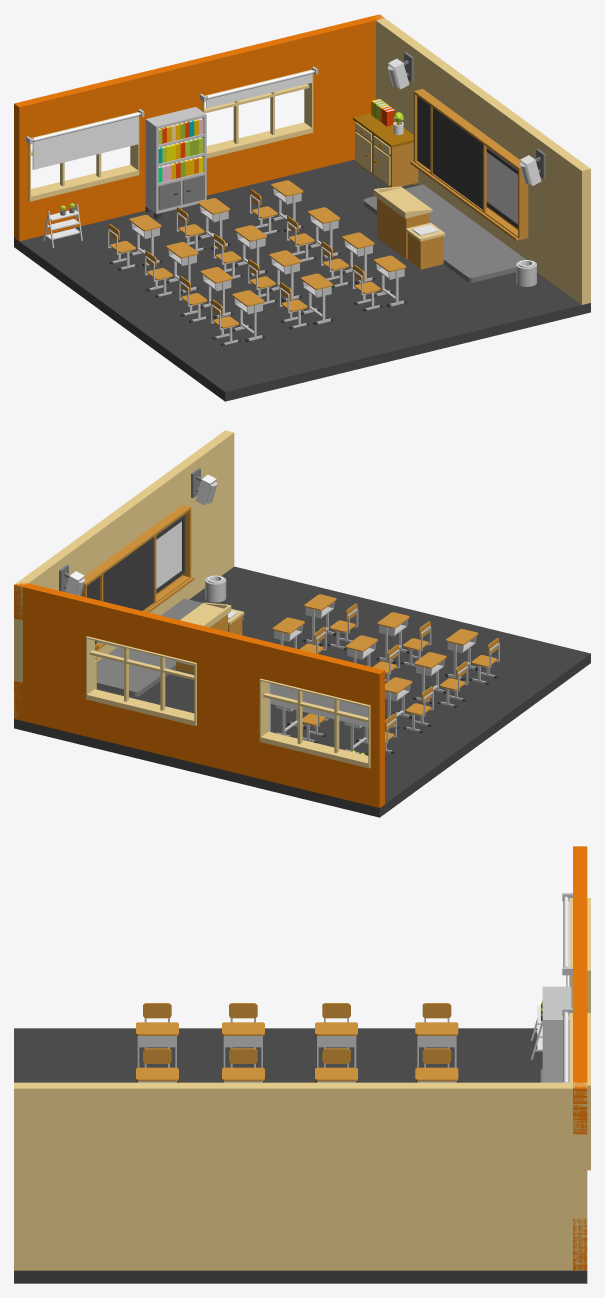
Rendered from classroom.gltf.
3 renders of one model, top to bottom at view 1: azimuth 30°, elevation 25°; view 2: azimuth 150°, elevation 25°; view 3: azimuth 270°, elevation 25°, orthographic. The views are drawn at different scales.
Parts seen in each view (by area): view 1: box_437, box_408, box_407, box_296, box_406, box_400, box_255, box_17, box_363, box_14, box_409, box_369 (+17 smaller); view 2: box_437, box_408, box_296, box_407, box_255, box_406, box_17, box_400, box_363, box_409, box_291, box_369 (+6 smaller); view 3: box_408, box_437, box_407, box_274, box_273, box_296, box_406, box_255, box_367, box_366.
Boxes of the visible parts, x1,y1,x2,y2 form: box_437: (14, 159, 590, 401); box_408: (373, 14, 590, 304); box_407: (14, 14, 384, 140); box_296: (14, 121, 354, 241); box_406: (308, 17, 375, 169); box_400: (367, 184, 526, 281); box_255: (133, 59, 202, 212); box_17: (432, 107, 482, 209); box_363: (32, 116, 138, 169); box_14: (486, 152, 517, 223); box_409: (14, 101, 28, 240); box_369: (28, 165, 138, 201); box_437: (14, 566, 590, 817); box_408: (14, 430, 234, 718); box_296: (14, 680, 384, 807); box_407: (14, 583, 384, 707); box_255: (197, 625, 265, 778); box_406: (23, 583, 91, 736); box_17: (103, 537, 153, 610); box_400: (97, 598, 202, 696); box_363: (270, 683, 368, 727); box_409: (370, 668, 384, 807); box_291: (86, 689, 196, 725); box_369: (260, 731, 370, 768); box_408: (14, 1082, 587, 1270); box_437: (14, 1028, 587, 1283); box_407: (573, 846, 587, 1134); box_274: (542, 1021, 569, 1082); box_273: (542, 986, 571, 1021); box_296: (573, 1218, 587, 1270); box_406: (573, 1040, 587, 1082); box_255: (573, 925, 587, 967); box_367: (569, 898, 590, 971); box_366: (569, 1013, 590, 1085).
Size of the model in its own units: 80 by 30 by 80.5.
